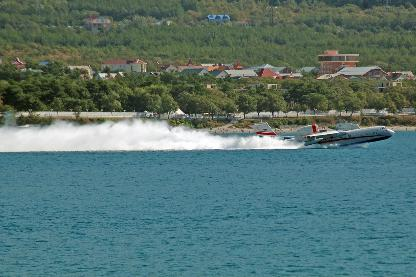B52: (246, 119, 394, 146)
